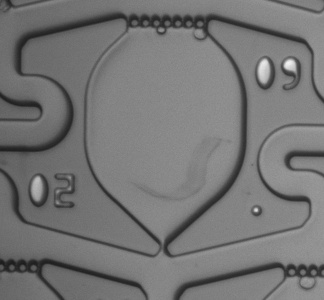AptNum: (247, 51, 309, 96)
Marker: (242, 198, 272, 225)
StNum: (21, 168, 83, 218)
Trap: (142, 246, 186, 288)
